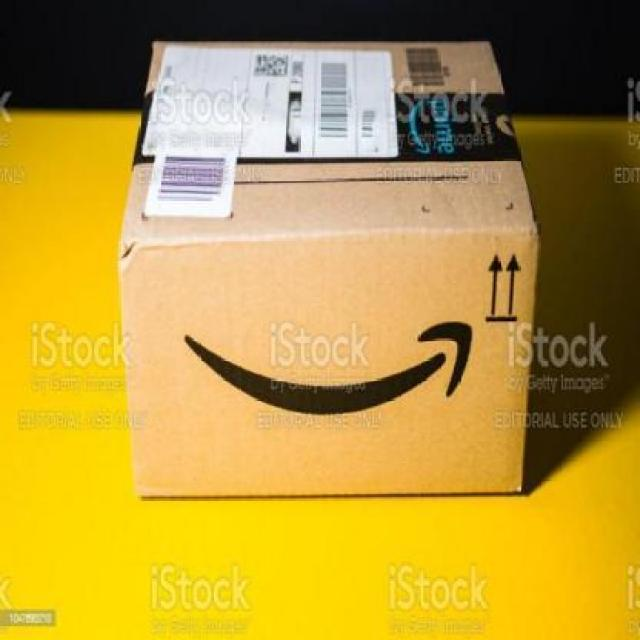box: (113, 28, 547, 516)
